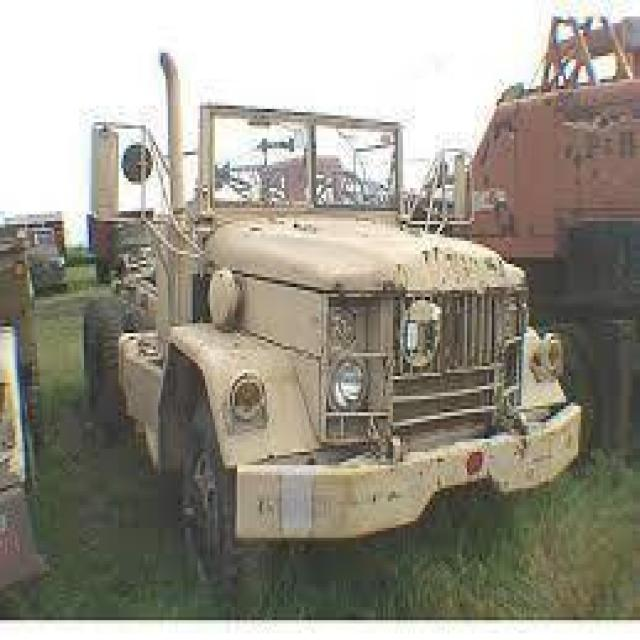Tanks: (73, 46, 584, 597)
